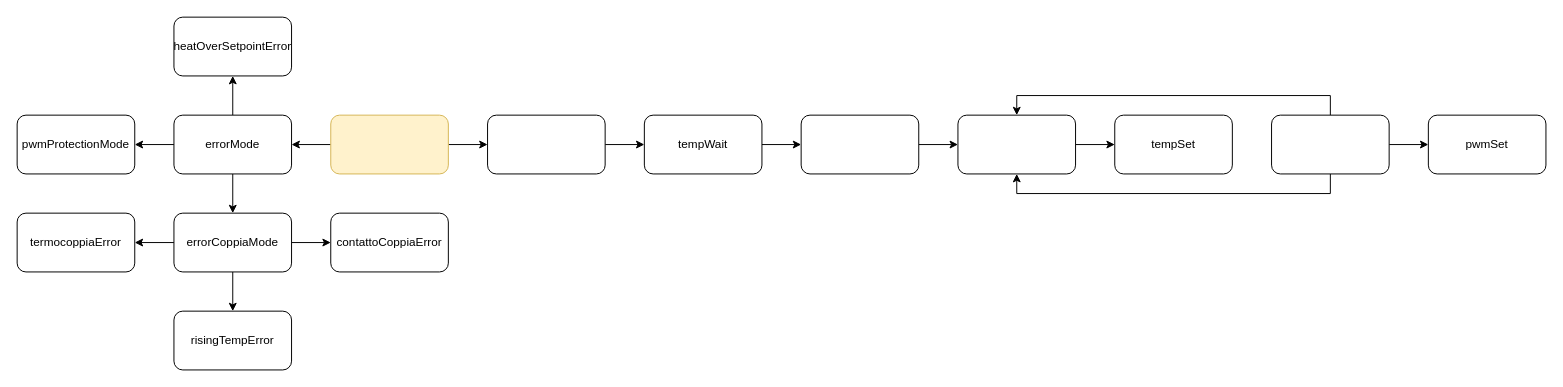
This 1563x387 diagram has some shape labels left out. Here are the shapes that lost their labels. From the top down, the centre of each, then its label:
point (389, 144): ROOT
point (546, 144): tempInit
point (859, 144): pwmInit
point (1016, 144): tempRoot
point (1330, 144): pwmRoot
